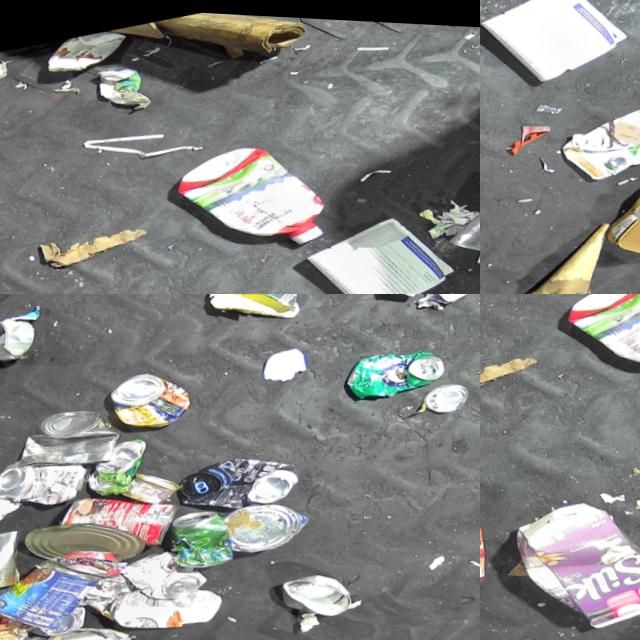can: (55, 471, 188, 566), (0, 539, 115, 640), (176, 437, 307, 521), (9, 394, 129, 481), (24, 501, 150, 579), (342, 331, 452, 401), (0, 442, 96, 516), (107, 358, 198, 434), (119, 536, 214, 607), (225, 487, 318, 556), (164, 497, 240, 569), (281, 558, 363, 622), (81, 430, 159, 497), (119, 459, 185, 509), (38, 610, 138, 640), (0, 522, 35, 600), (29, 599, 94, 639), (0, 308, 40, 367), (0, 578, 34, 640), (422, 372, 474, 412), (457, 181, 480, 261), (0, 628, 58, 640)
non_white_jug: (506, 480, 640, 640), (559, 78, 640, 185), (559, 294, 640, 394)
